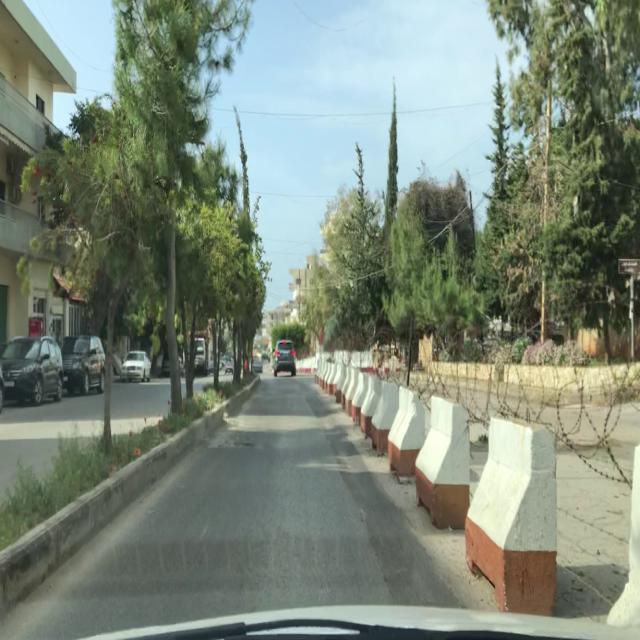Pothole: (232, 442, 255, 448)
